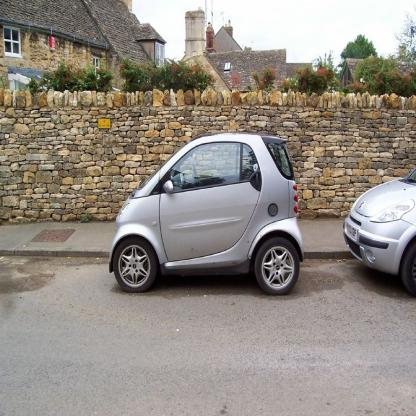Car: (110, 129, 305, 296), (344, 168, 416, 298)
